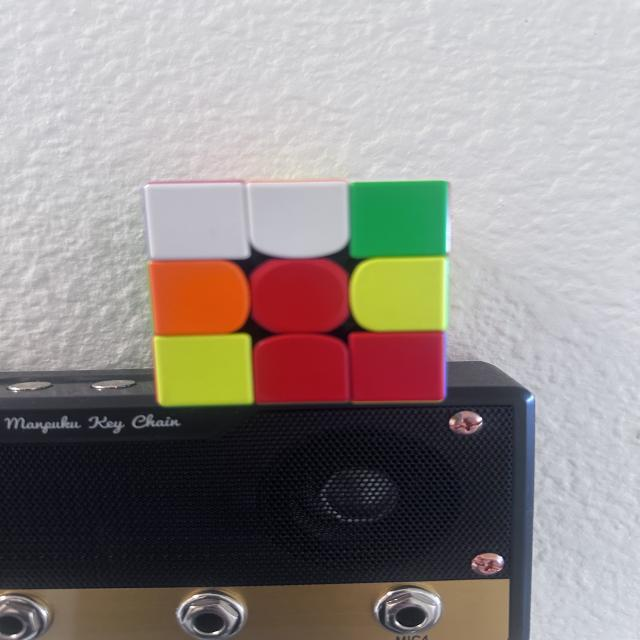sticker: (142, 181, 254, 263), (246, 180, 354, 262), (348, 180, 452, 261), (147, 260, 252, 338), (248, 258, 352, 335), (350, 258, 450, 334), (152, 335, 256, 408), (347, 331, 448, 405), (251, 333, 354, 404)
